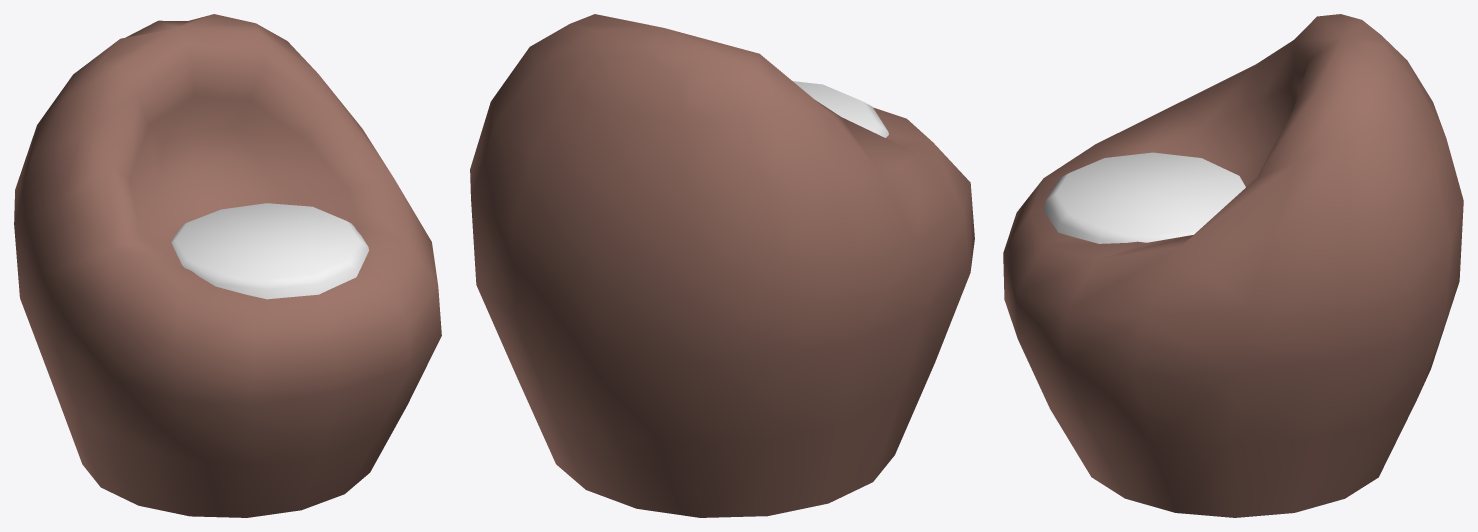
File: armchair_009.glb
The picture shows the model from 3 angles, left to right: view 1: azimuth 30°, elevation 25°; view 2: azimuth 150°, elevation 25°; view 3: azimuth 270°, elevation 25°; orthographic projection. The views are drawn at different scales.
Parts seen in each view (by area): view 1: armchair_009; view 2: armchair_009; view 3: armchair_009.
Boxes of the visible parts, x1,y1,x2,y2 form: armchair_009: (14, 14, 441, 517); armchair_009: (470, 14, 974, 517); armchair_009: (1003, 14, 1463, 517).
Bounding box in the file's own units: 0.9151 × 0.9934 × 1.
1 material, 1 textured.
